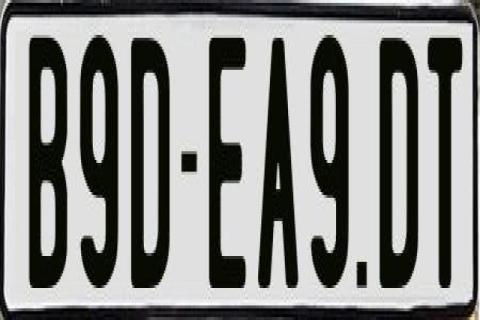0: (309, 32, 353, 291), (76, 35, 118, 299)
A: (255, 38, 301, 306)
B: (27, 35, 68, 285)
D: (376, 29, 418, 294), (130, 35, 168, 297)
E: (206, 32, 247, 294)
T: (426, 29, 459, 288)
